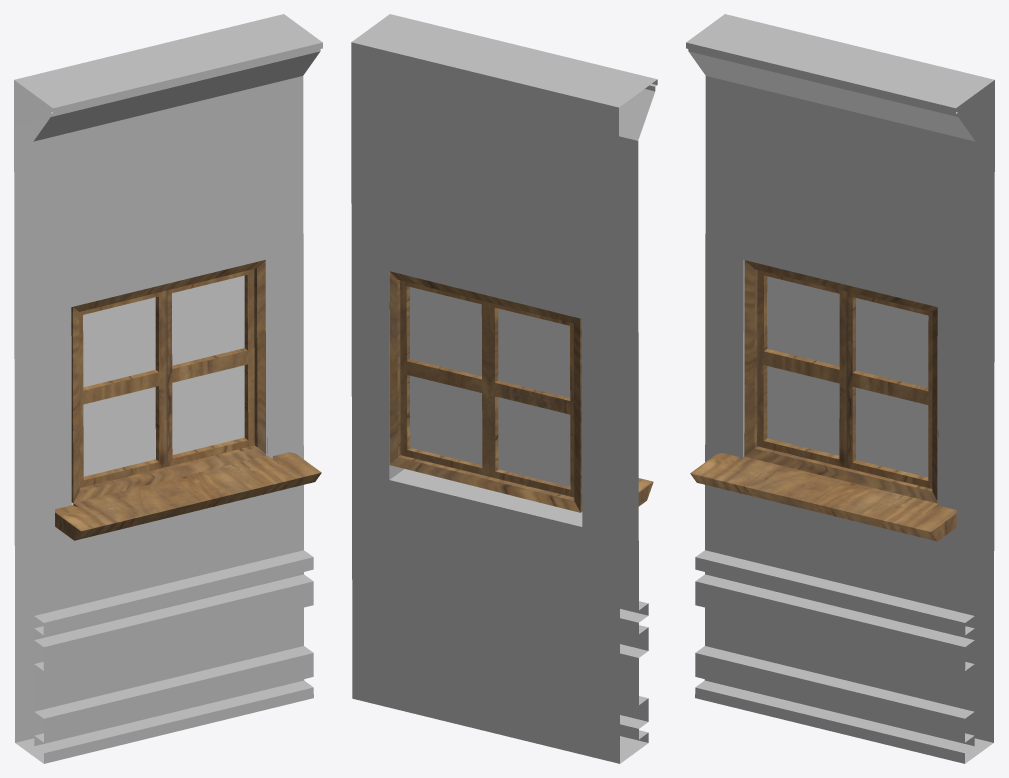
The model's file is wall_with_one_window.fbx.
3 views of the same model, side by side, from view 1: azimuth 30°, elevation 25°; view 2: azimuth 150°, elevation 25°; view 3: azimuth 330°, elevation 25° (orthographic).
Visible parts, largest first — view 1: wall.002, glass, window_small, window_small_frame; view 2: wall.002, glass, window_small_frame, window_small; view 3: wall.002, glass, window_small, window_small_frame.
Boxes of the visible parts, x1,y1,x2,y2 form: wall.002: (14, 14, 322, 763); glass: (83, 275, 244, 476); window_small: (55, 260, 321, 540); window_small_frame: (79, 269, 254, 487); wall.002: (351, 14, 657, 763); glass: (410, 287, 570, 486); window_small_frame: (400, 280, 574, 497); window_small: (389, 271, 653, 512); wall.002: (686, 14, 994, 763); glass: (767, 276, 928, 477); window_small: (690, 260, 956, 541); window_small_frame: (757, 270, 932, 488).
Size of the model in its own units: 120 by 282 by 39.35.
